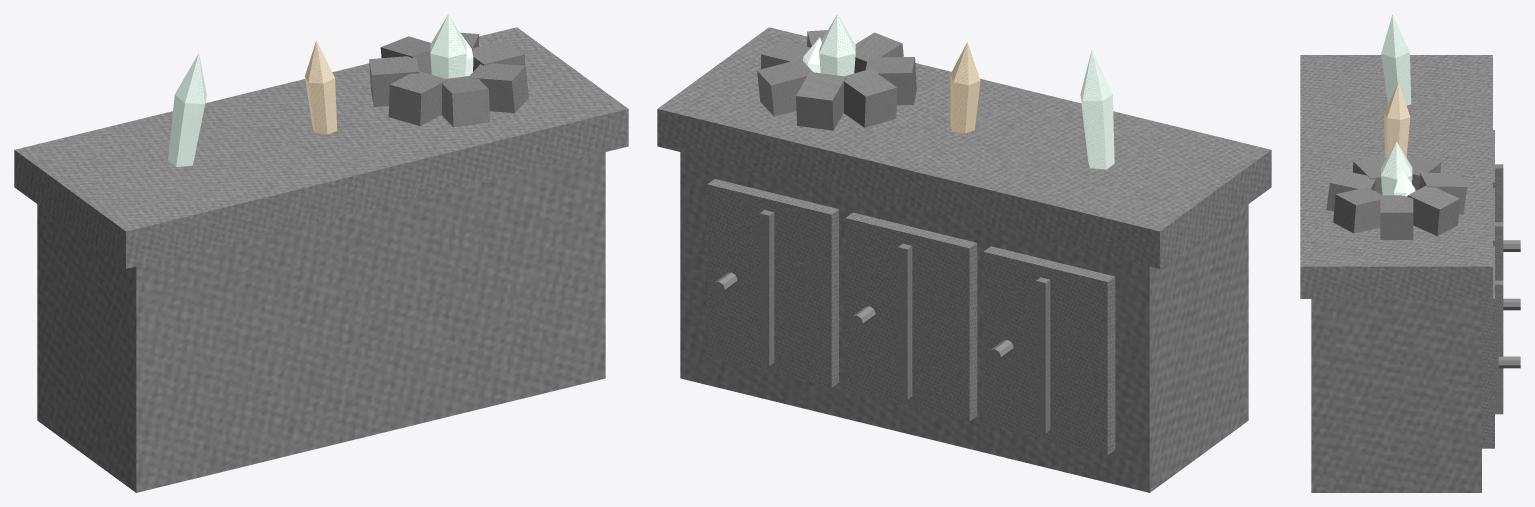
Rendered from decor-specimen-sideboard.glb.
The picture shows the model from 3 angles, left to right: view 1: azimuth 30°, elevation 25°; view 2: azimuth 150°, elevation 25°; view 3: azimuth 270°, elevation 25°; orthographic projection. The views are drawn at different scales.
Visible parts, largest first — view 1: body, top, top-specimen-left, geode-shell-UnityEngine.Vector3-3, geode-shell-UnityEngine.Vector3-2, top-specimen-mid, geode-shell-UnityEngine.Vector3-1, geode-heart-UnityEngine.Vector3, geode-shell-UnityEngine.Vector3-4, geode-shell-UnityEngine.Vector3-5, geode-shell-UnityEngine.Vector3-0; view 2: top, body, door--1, door-0, door-1, top-specimen-left, geode-shell-UnityEngine.Vector3-4, geode-shell-UnityEngine.Vector3-5, door-band-0, door-band--1, door-band-1, top-specimen-mid (+5 smaller); view 3: top, body, door-1, geode-shell-UnityEngine.Vector3-6, geode-shell-UnityEngine.Vector3-1, top-specimen-left, geode-shell-UnityEngine.Vector3-0, top-specimen-mid, door-band-1, geode-heart-UnityEngine.Vector3, geode-shell-UnityEngine.Vector3-2, geode-shell-UnityEngine.Vector3-5 (+6 smaller).
Boxes of the visible parts, <box> form: body: <box>37,152,605,492</box>; top: <box>14,27,628,268</box>; top-specimen-left: <box>168,53,206,166</box>; geode-shell-UnityEngine.Vector3-3: <box>388,71,447,125</box>; geode-shell-UnityEngine.Vector3-2: <box>442,76,489,127</box>; top-specimen-mid: <box>305,40,337,134</box>; geode-shell-UnityEngine.Vector3-1: <box>468,63,528,112</box>; geode-heart-UnityEngine.Vector3: <box>430,14,466,78</box>; geode-shell-UnityEngine.Vector3-4: <box>369,56,419,106</box>; geode-shell-UnityEngine.Vector3-5: <box>380,36,431,74</box>; geode-shell-UnityEngine.Vector3-0: <box>472,40,524,71</box>; top: <box>657,27,1271,268</box>; body: <box>680,152,1248,492</box>; door--1: <box>983,246,1115,455</box>; door-0: <box>845,212,977,421</box>; door-1: <box>707,179,838,387</box>; top-specimen-left: <box>1080,50,1114,169</box>; geode-shell-UnityEngine.Vector3-4: <box>844,69,897,127</box>; geode-shell-UnityEngine.Vector3-5: <box>796,72,846,130</box>; door-band-0: <box>898,243,912,399</box>; door-band--1: <box>1036,277,1050,433</box>; door-band-1: <box>760,210,774,365</box>; top-specimen-mid: <box>950,42,980,133</box>; top: <box>1300,55,1492,298</box>; body: <box>1311,299,1481,492</box>; door-1: <box>1482,246,1494,448</box>; geode-shell-UnityEngine.Vector3-6: <box>1407,185,1460,235</box>; geode-shell-UnityEngine.Vector3-1: <box>1333,187,1382,233</box>; top-specimen-left: <box>1381,14,1411,105</box>; geode-shell-UnityEngine.Vector3-0: <box>1380,195,1413,239</box>; top-specimen-mid: <box>1384,82,1410,158</box>; door-band-1: <box>1495,280,1503,414</box>; geode-heart-UnityEngine.Vector3: <box>1381,141,1412,195</box>; geode-shell-UnityEngine.Vector3-2: <box>1326,169,1375,211</box>; geode-shell-UnityEngine.Vector3-5: <box>1419,172,1466,214</box>.
Size of the model in its own units: 1.82 by 1.31 by 0.8.
Materials: 10 (10 with a texture image).
